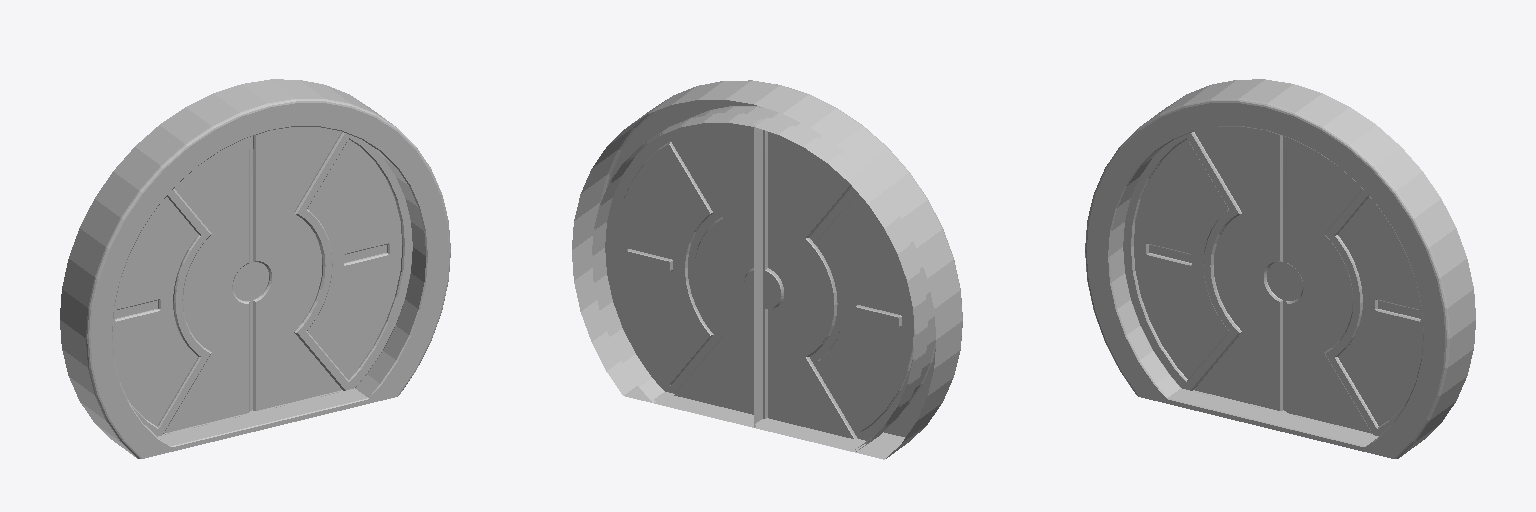
The model's file is door.obj.
3 renders of one model, left to right at view 1: azimuth 30°, elevation 25°; view 2: azimuth 150°, elevation 25°; view 3: azimuth 330°, elevation 25°, orthographic.
Visible parts, largest first — view 1: g0; view 2: g0; view 3: g0.
Part boxes in pixels (x1,y1,x2,y2): g0: (60, 79, 450, 458); g0: (572, 80, 962, 459); g0: (1085, 79, 1475, 458).
Size of the model in its own units: 128 by 108 by 16.92.